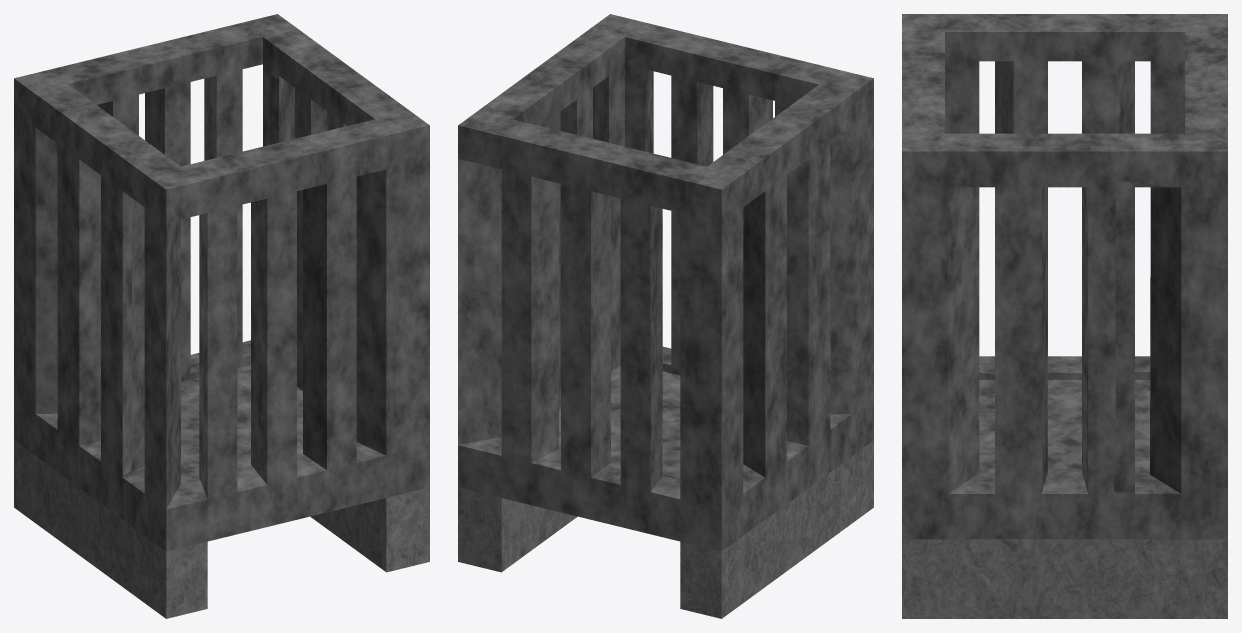
The model's file is trash_can_1.fbx.
3 views of the same model, side by side, from view 1: azimuth 30°, elevation 25°; view 2: azimuth 150°, elevation 25°; view 3: azimuth 270°, elevation 25° (orthographic). The views are drawn at different scales.
Parts seen in each view (by area): view 1: odpadkovy kos; view 2: odpadkovy kos; view 3: odpadkovy kos.
Part boxes in pixels (x1=…): odpadkovy kos: x1=14, y1=14, x2=429, y2=618; odpadkovy kos: x1=458, y1=14, x2=873, y2=618; odpadkovy kos: x1=902, y1=14, x2=1227, y2=618.
Bounding box in the file's own units: 39.84 × 63.01 × 39.84.
